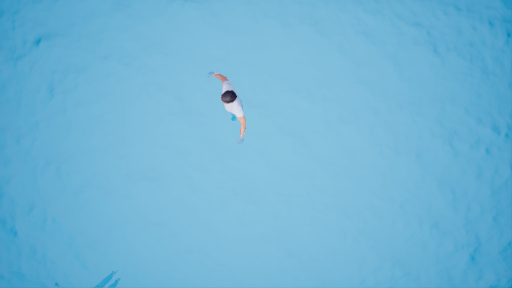person: (206, 70, 254, 143)
